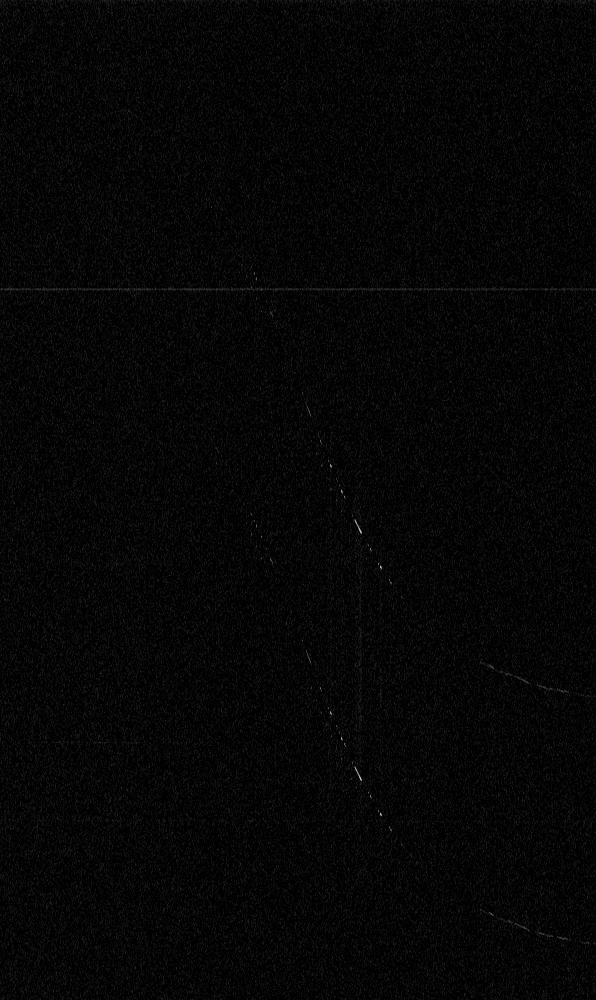signal: (0, 0, 595, 999)
